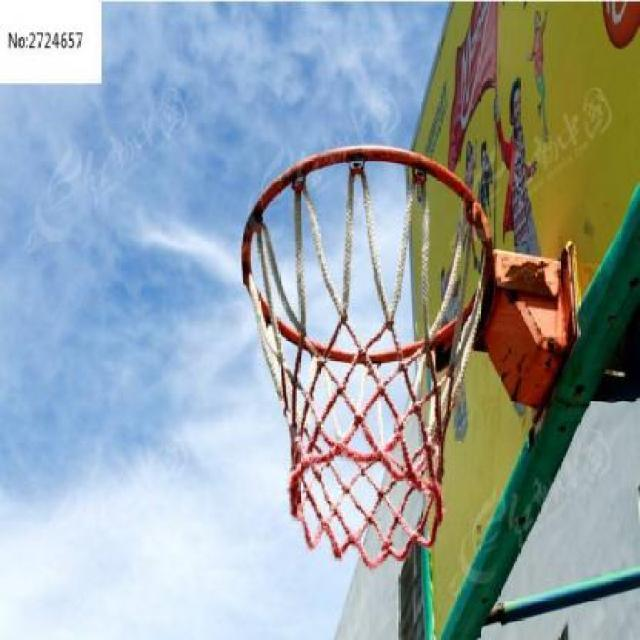rim: (240, 143, 492, 565)
